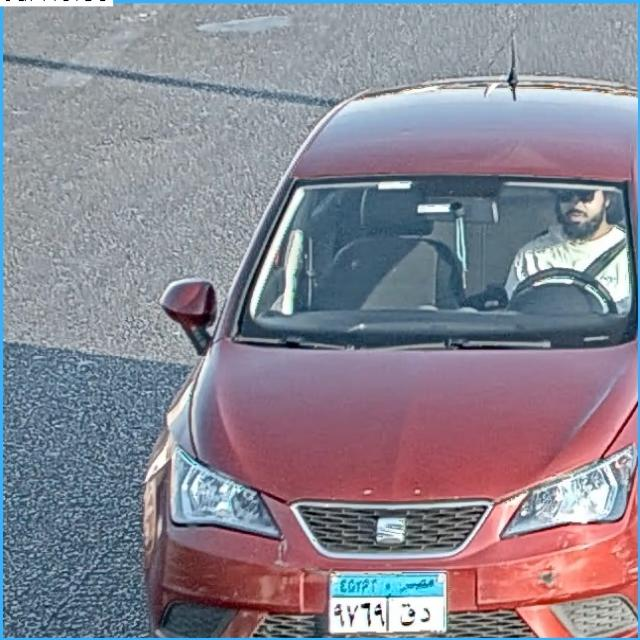windshield: (237, 182, 640, 342)
